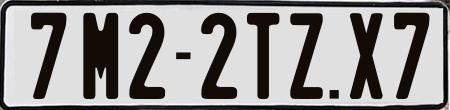2: (127, 10, 169, 102), (198, 11, 234, 98)
7: (28, 10, 66, 99), (393, 13, 428, 100)
M: (82, 12, 118, 100)
T: (246, 13, 281, 102)
X: (348, 11, 386, 100)
Z: (289, 10, 323, 97)
